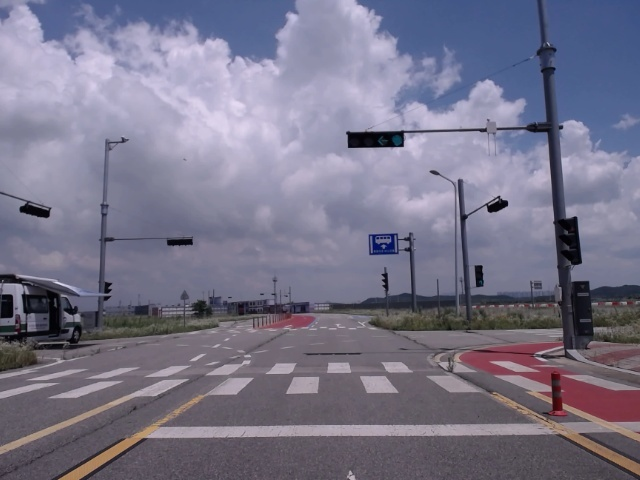all_green_4: (347, 132, 408, 146)
